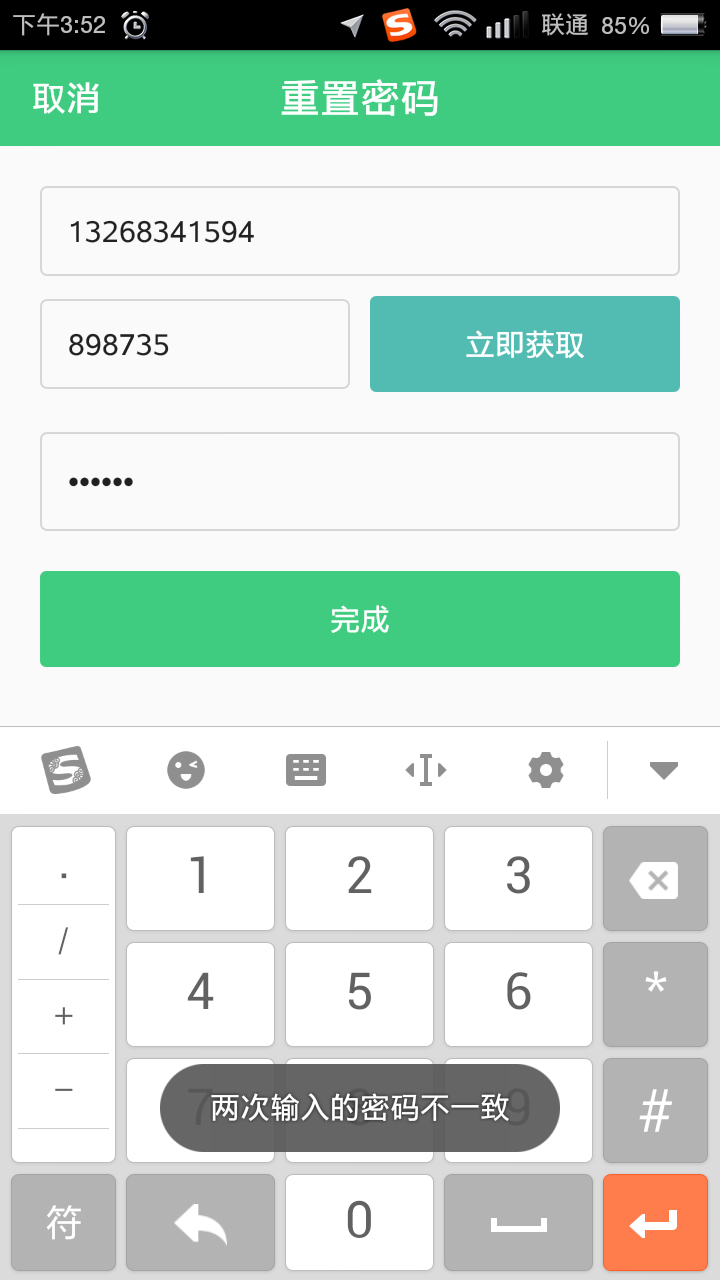alert: (155, 1060, 566, 1158)
textview: (33, 429, 693, 542)
